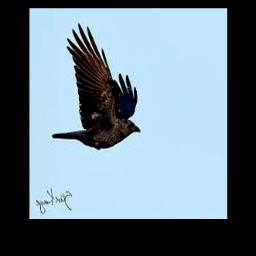Crow: (53, 24, 140, 149)
